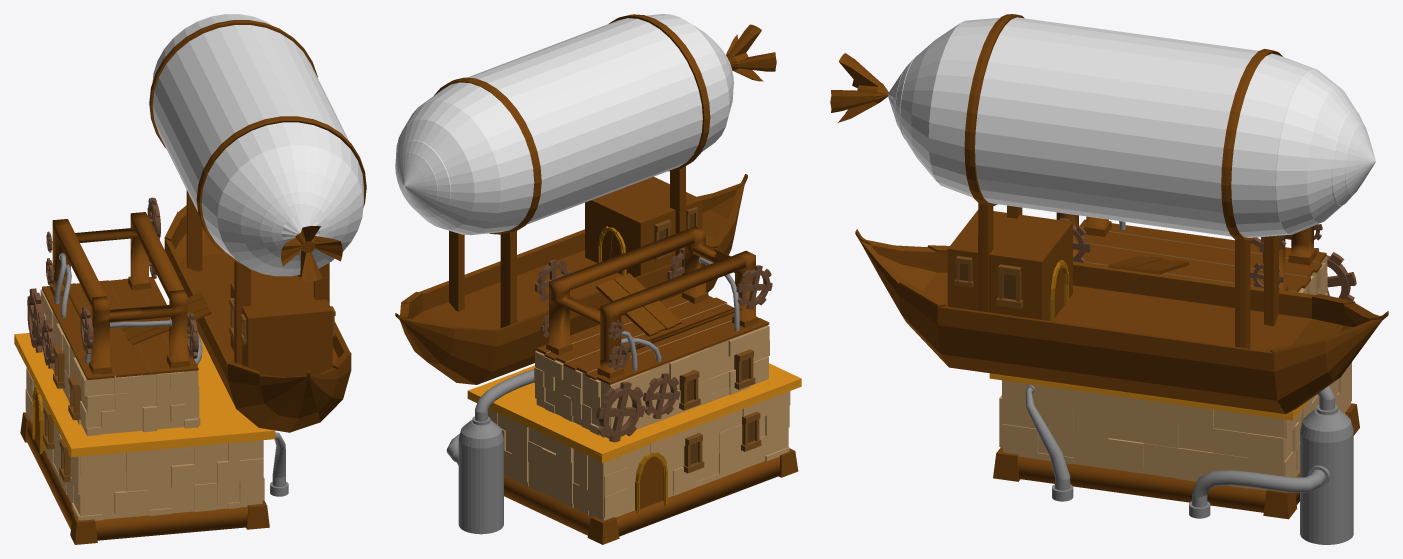
The model's file is AirDock_with_Airship.fbx.
The picture shows the model from 3 angles, left to right: view 1: azimuth 30°, elevation 25°; view 2: azimuth 150°, elevation 25°; view 3: azimuth 270°, elevation 25°; orthographic projection. The views are drawn at different scales.
Visible parts, largest first — view 1: Cylinder.130, Cube.150, Cube.146, Cube.145, Cube.153, Cube.158, Cube.152, Cube.405, Cube.157, Cube.084, Cylinder.151, Cylinder.152 (+8 smaller); view 2: Cylinder.130, Cube.150, Cube.146, Cube.153, Cube.157, Cube.145, Cylinder.155, Cube.084, Cylinder.151, Cube.154, Cube.152, Cylinder.156 (+9 smaller); view 3: Cylinder.130, Cube.146, Cube.150, Cube.145, Cylinder.155, Cube.156, Cylinder.154, Cylinder.152, Cube.153, Cube.088, Cube.084, Cube.144 (+2 smaller).
Boxes of the visible parts, x1,y1,x2,y2 form: Cylinder.130: [149, 14, 366, 364]; Cube.150: [14, 277, 275, 520]; Cube.146: [164, 205, 351, 432]; Cube.145: [230, 276, 332, 376]; Cube.153: [50, 212, 184, 317]; Cube.158: [70, 506, 248, 544]; Cube.152: [108, 290, 190, 368]; Cube.405: [89, 296, 168, 374]; Cube.157: [20, 412, 74, 529]; Cube.084: [121, 292, 211, 345]; Cylinder.151: [27, 288, 44, 352]; Cylinder.152: [270, 432, 288, 496]; Cylinder.130: [395, 14, 776, 327]; Cube.150: [467, 293, 801, 520]; Cube.146: [395, 174, 747, 384]; Cube.153: [546, 230, 745, 378]; Cube.157: [504, 456, 780, 544]; Cube.145: [585, 176, 702, 277]; Cylinder.155: [458, 419, 503, 534]; Cube.084: [596, 273, 681, 336]; Cylinder.151: [596, 382, 644, 442]; Cube.154: [635, 452, 667, 515]; Cube.152: [681, 226, 730, 303]; Cylinder.156: [472, 369, 534, 425]; Cylinder.130: [830, 14, 1375, 348]; Cube.146: [855, 229, 1388, 413]; Cube.150: [989, 219, 1351, 490]; Cube.145: [947, 210, 1072, 320]; Cylinder.155: [1300, 408, 1353, 544]; Cube.156: [993, 447, 1266, 512]; Cylinder.154: [1189, 465, 1330, 518]; Cylinder.152: [1025, 385, 1073, 501]; Cube.153: [1263, 226, 1316, 290]; Cube.088: [996, 264, 1023, 309]; Cube.084: [1108, 256, 1188, 274]; Cube.144: [1050, 260, 1069, 321].
Bounding box in the file's own units: 1577 × 2018 × 2077.
